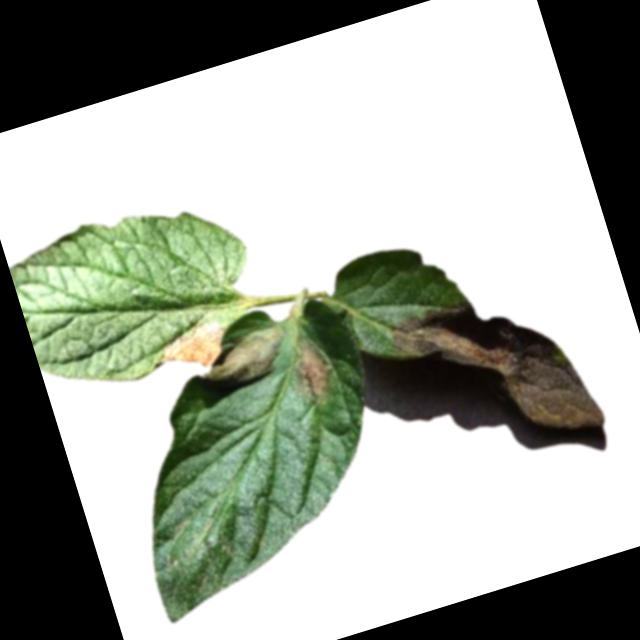Late_blight: (384, 270, 607, 477), (191, 322, 296, 400), (154, 314, 240, 380), (282, 331, 341, 404)
